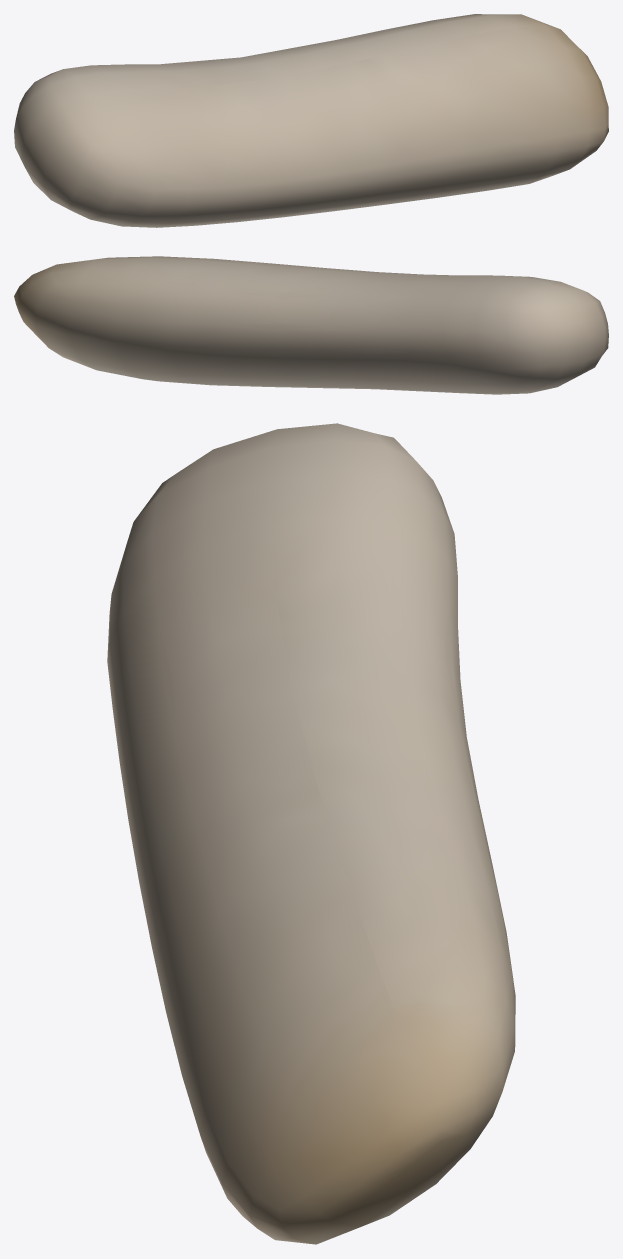
3 views of the same model, one above another, from view 1: azimuth 30°, elevation 25°; view 2: azimuth 150°, elevation 25°; view 3: azimuth 270°, elevation 25° (orthographic). The views are drawn at different scales.
Parts seen in each view (by area): view 1: CC R5, CC R5 low; view 2: CC R5, CC R5 low; view 3: CC R5, CC R5 low.
Boxes of the visible parts, x1,y1,x2,y2 form: CC R5: [14, 14, 608, 227]; CC R5 low: [161, 40, 392, 140]; CC R5: [14, 256, 608, 394]; CC R5 low: [225, 265, 452, 392]; CC R5: [107, 423, 515, 1244]; CC R5 low: [159, 575, 485, 846].
Size of the model in its own units: 2.28 by 0.7382 by 0.7348.
1 material, 1 textured.
